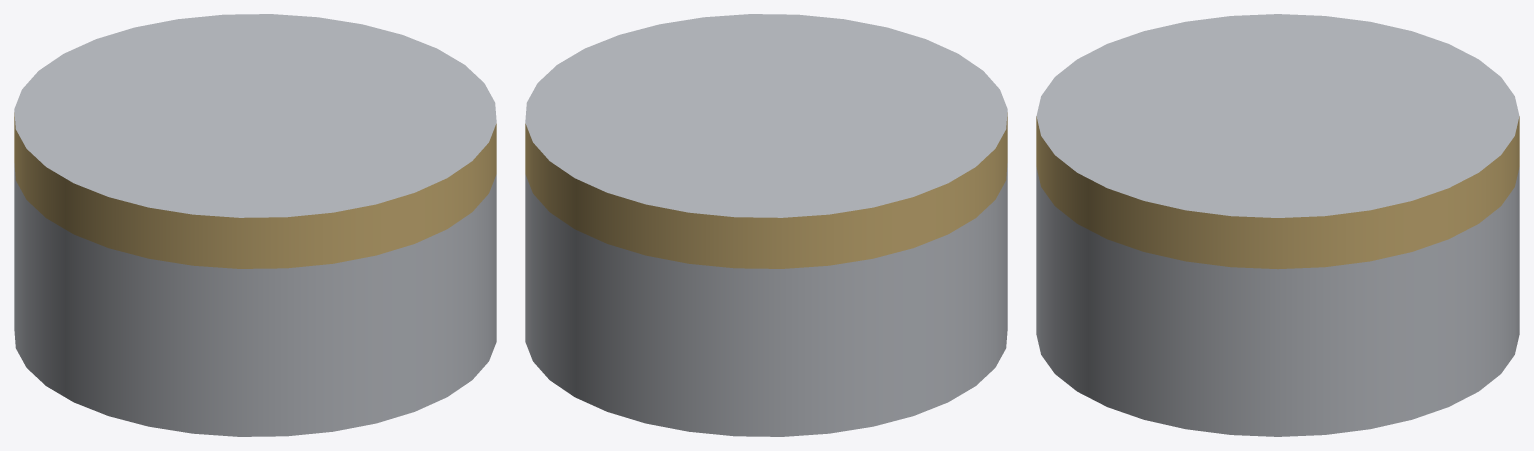
3 renders of one model, left to right at view 1: azimuth 30°, elevation 25°; view 2: azimuth 150°, elevation 25°; view 3: azimuth 270°, elevation 25°, orthographic.
Visible parts, largest first — view 1: ratchet_0-60; view 2: ratchet_0-60; view 3: ratchet_0-60.
Boxes of the visible parts, x1,y1,x2,y2 form: ratchet_0-60: [14, 14, 496, 436]; ratchet_0-60: [525, 14, 1007, 436]; ratchet_0-60: [1036, 14, 1519, 436].
Size of the model in its own units: 12 by 6 by 12.
